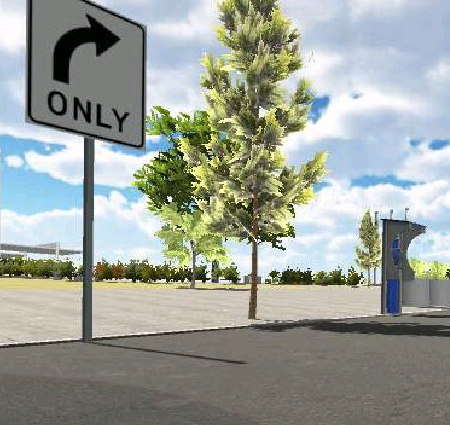arrow_right: (48, 12, 130, 83)
